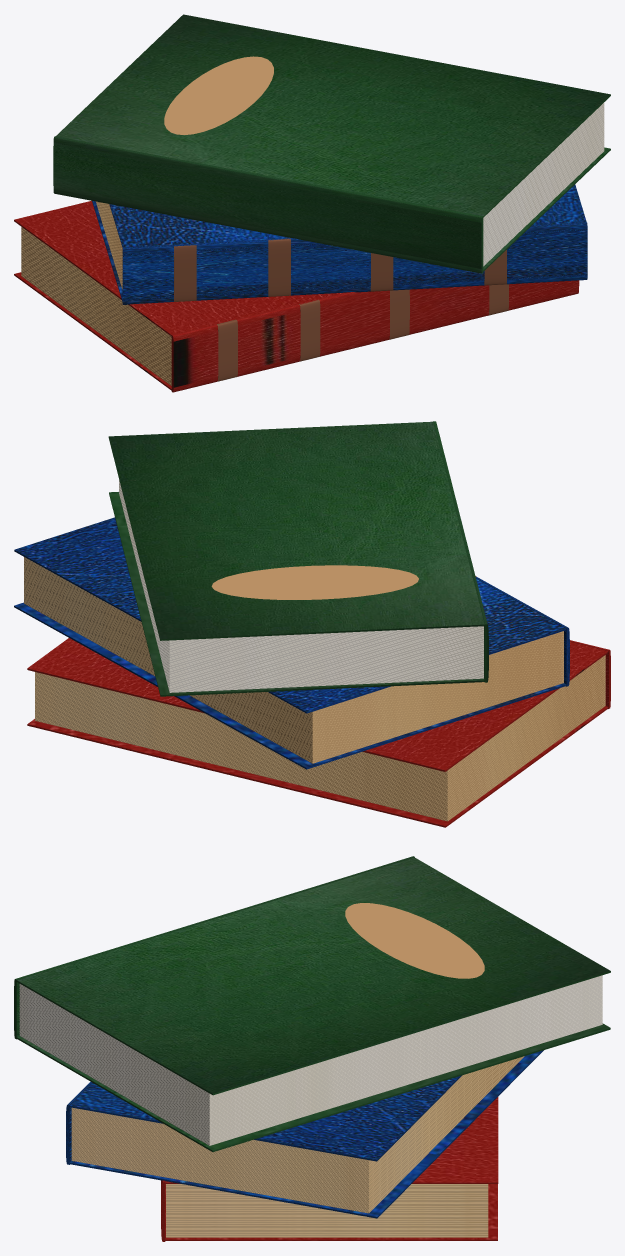
Rendered from books.fbx.
3 renders of one model, top to bottom at view 1: azimuth 30°, elevation 25°; view 2: azimuth 150°, elevation 25°; view 3: azimuth 270°, elevation 25°, orthographic. The views are drawn at different scales.
Parts seen in each view (by area): view 1: Cube.017, Cube.019, Cube.011, Cube.003, Cube.001, Cube, Cube.016, Circle, Cube.009, Cube.013, Cube.012, Cube.005 (+8 smaller); view 2: Cube.017, Cube, Cube.008, Cube.016, Cube.009, Cube.001, Circle, Cube.002, Cube.010, Cube.018, Cube.019, Cube.011; view 3: Cube.017, Cube.016, Cube.008, Cube, Cube.009, Circle, Cube.018, Cube.001, Cube.010, Cube.002, Cube.019.
Boxes of the visible parts, box(x1,y1,x2,y2) form: Cube.017: box(56, 14, 610, 217); Cube.019: box(53, 136, 483, 273); Cube.011: box(122, 222, 587, 304); Cube.003: box(171, 280, 579, 392); Cube.001: box(14, 200, 344, 336); Cube: box(21, 227, 171, 385); Cube.016: box(483, 102, 604, 266); Circle: box(164, 56, 273, 134); Cube.009: box(109, 184, 586, 247); Cube.013: box(268, 238, 290, 296); Cube.012: box(174, 245, 196, 301); Cube.005: box(299, 299, 320, 361); Cube.017: box(108, 421, 484, 640); Cube: box(35, 655, 605, 821); Cube.008: box(24, 557, 563, 763); Cube.016: box(119, 479, 483, 692); Cube.009: box(14, 517, 566, 713); Cube.001: box(27, 638, 608, 771); Circle: box(211, 565, 418, 599); Cube.002: box(27, 706, 608, 827); Cube.010: box(14, 602, 566, 769); Cube.018: box(109, 492, 484, 696); Cube.019: box(433, 421, 488, 682); Cube.011: box(476, 577, 569, 686); Cube.017: box(16, 857, 610, 1095); Cube.016: box(19, 975, 602, 1145); Cube.008: box(71, 1056, 524, 1213); Cube: box(166, 1184, 488, 1237); Cube.009: box(70, 1075, 461, 1161); Circle: box(345, 903, 484, 978); Cube.018: box(16, 1023, 610, 1151); Cube.001: box(165, 1097, 498, 1183); Cube.010: box(70, 1050, 543, 1218); Cube.002: box(165, 1184, 497, 1240); Cube.019: box(14, 856, 414, 1039).
Size of the model in its own units: 246 by 82.44 by 251.
Materials: 6 (5 with a texture image).
